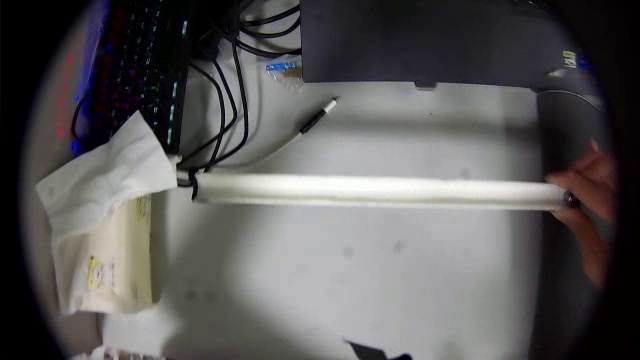gangzhu: (561, 189, 578, 206)
